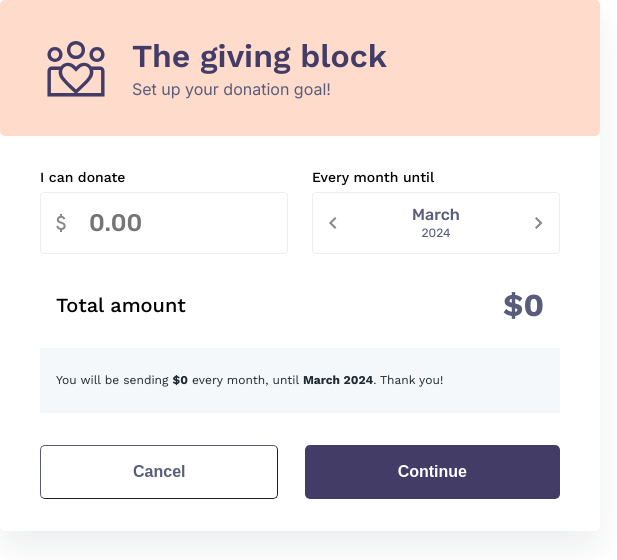
Test case: DonationBox › total amount › fills input with number without factorial
Click the button with test id "right-month-icon" at (539, 223), box 527,211 -> 551,235
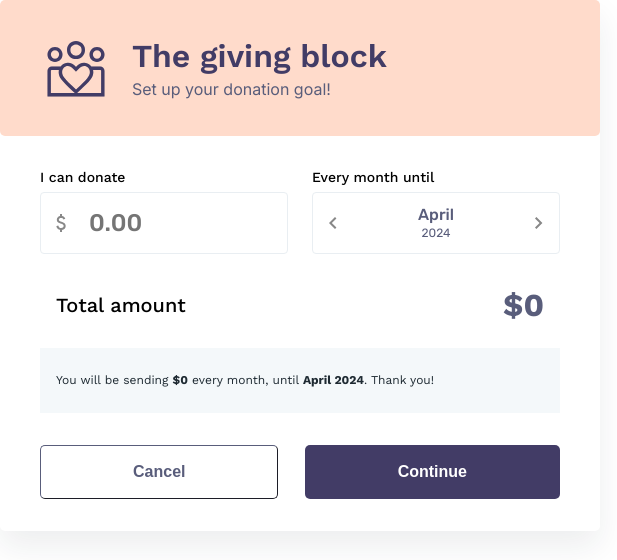
Click the button with test id "right-month-icon" at (539, 223), box 527,211 -> 551,235
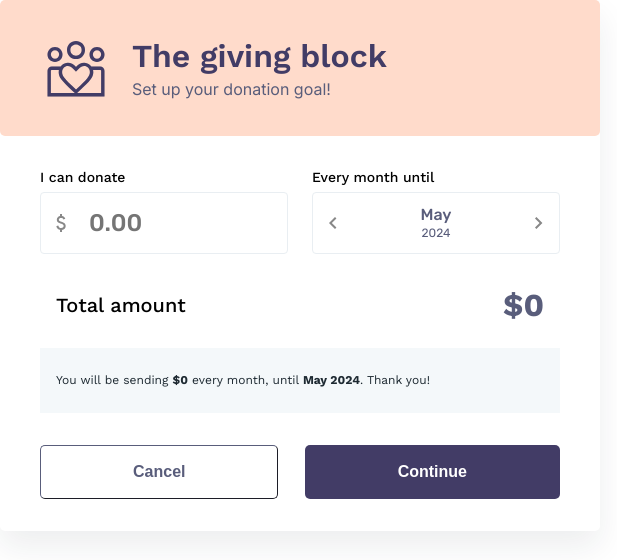
Click the button with test id "right-month-icon" at (539, 223), box 527,211 -> 551,235
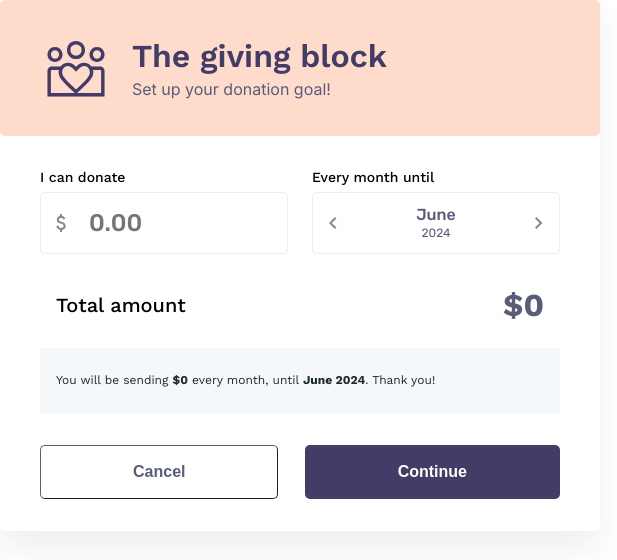
Type "33" into the field with test id "amount-input" at (176, 223), box 73,209 -> 279,237
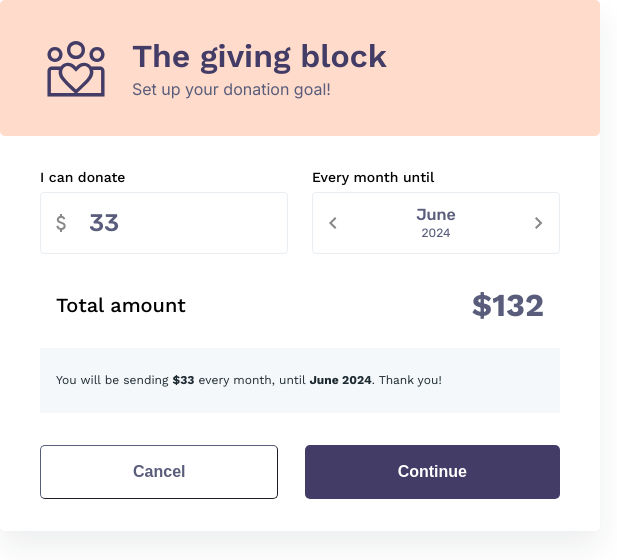
Expected: the text with test id "total-amount" reads "$132", 472,286 -> 544,324
